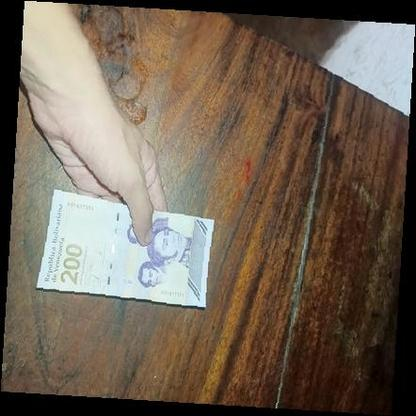two_hundred-front-vef: (34, 188, 214, 309)
